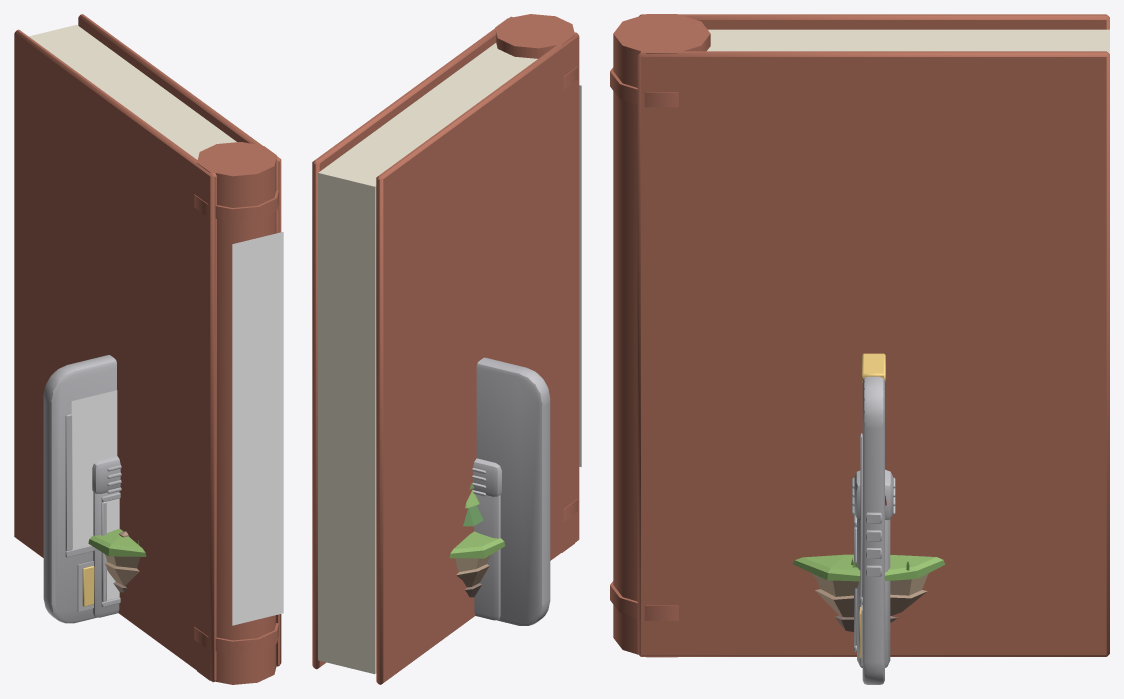
The model's file is collectibles.glb.
3 views of the same model, side by side, from view 1: azimuth 30°, elevation 25°; view 2: azimuth 150°, elevation 25°; view 3: azimuth 270°, elevation 25° (orthographic). The views are drawn at different scales.
Visible parts, largest first — view 1: TPL_book, TPL_memcard, TPL_cartridge, TPL_island; view 2: TPL_book, TPL_memcard, TPL_cartridge, TPL_island; view 3: TPL_book, TPL_memcard, TPL_island, TPL_cartridge.
Boxes of the visible parts, x1=… form: TPL_book: x1=14, y1=14, x2=283, y2=684; TPL_memcard: x1=43, y1=355, x2=117, y2=623; TPL_cartridge: x1=92, y1=456, x2=121, y2=617; TPL_island: x1=88, y1=528, x2=146, y2=592; TPL_book: x1=312, y1=14, x2=581, y2=684; TPL_memcard: x1=476, y1=357, x2=550, y2=625; TPL_cartridge: x1=472, y1=458, x2=501, y2=620; TPL_island: x1=449, y1=483, x2=505, y2=597; TPL_book: x1=610, y1=14, x2=1109, y2=657; TPL_memcard: x1=859, y1=353, x2=885, y2=684; TPL_island: x1=793, y1=554, x2=945, y2=631; TPL_cartridge: x1=852, y1=469, x2=895, y2=667.
Size of the model in its own units: 0.1012 by 0.24 by 0.18.
